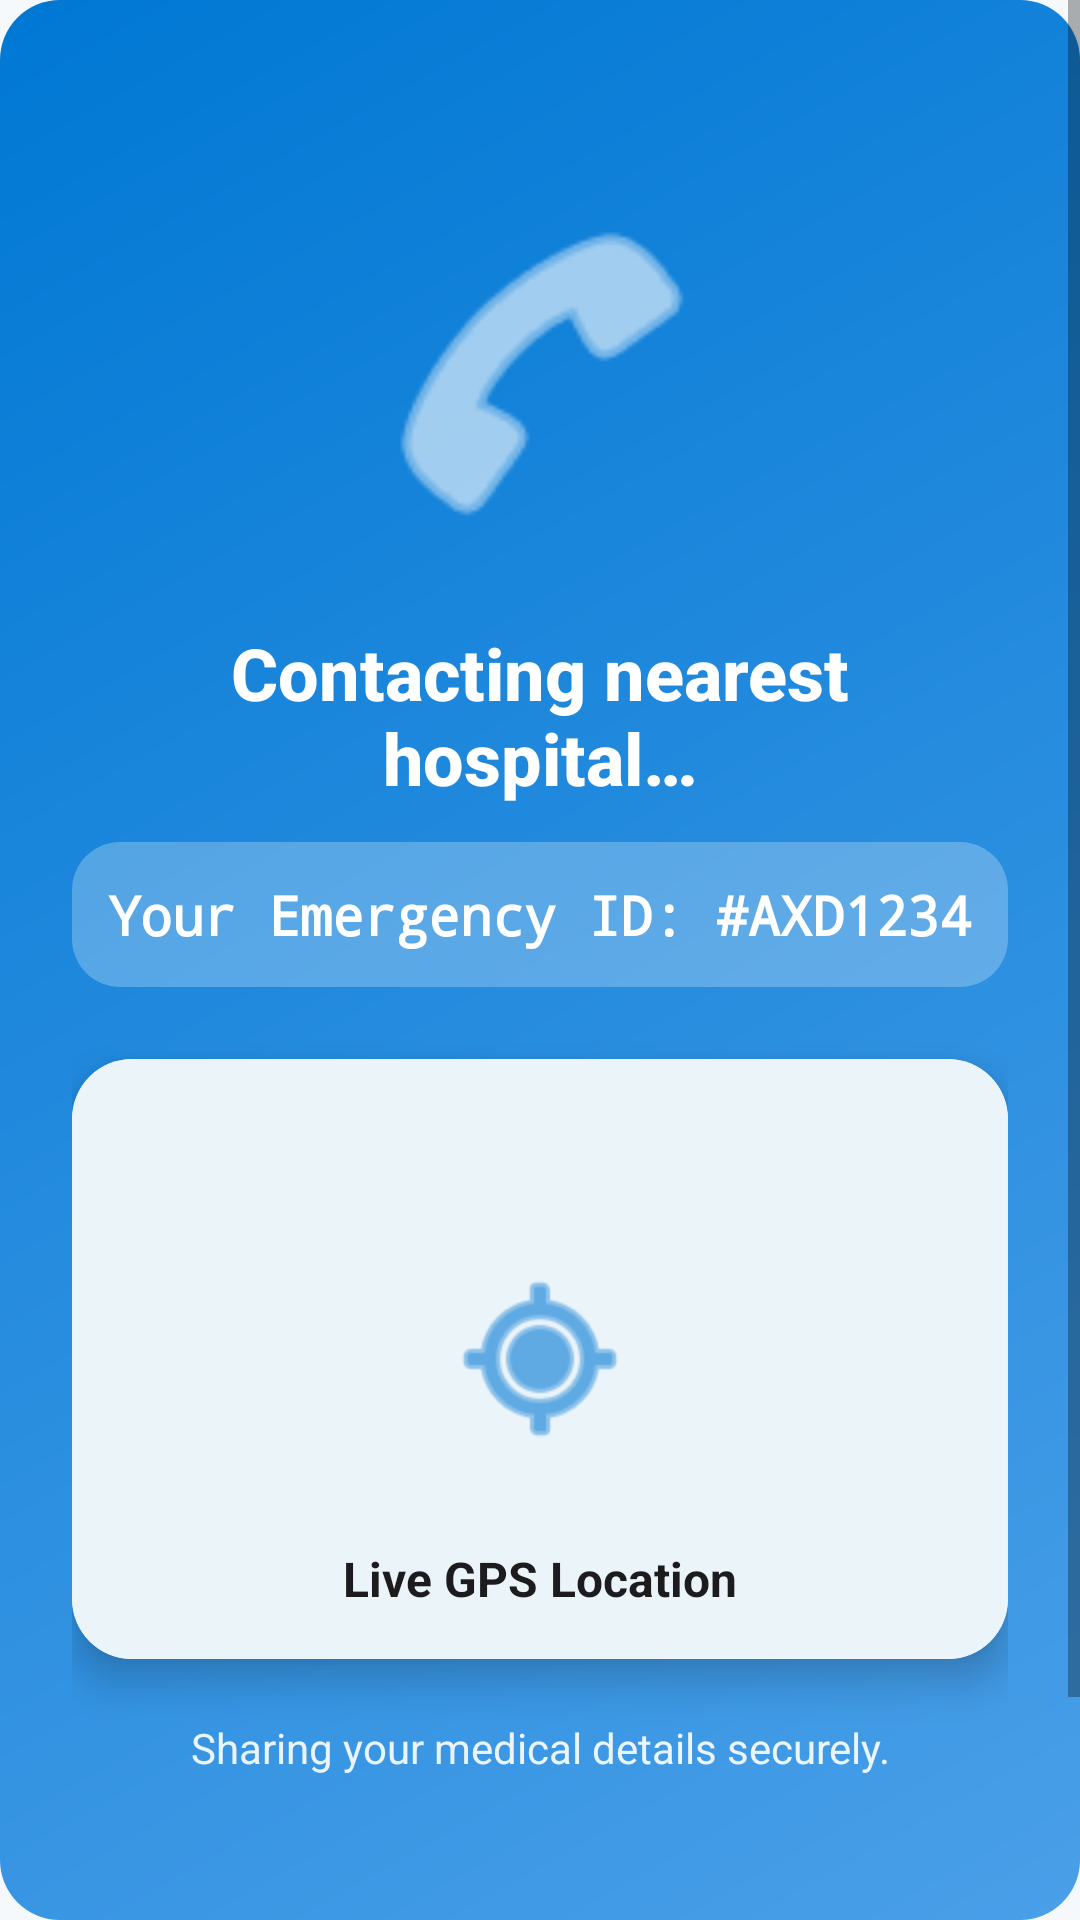

Icon bounding boxes for this 1080px×1920px phone screenshot, format (x1,y1,x2,y2):
Calling: (401,233,683,515)
